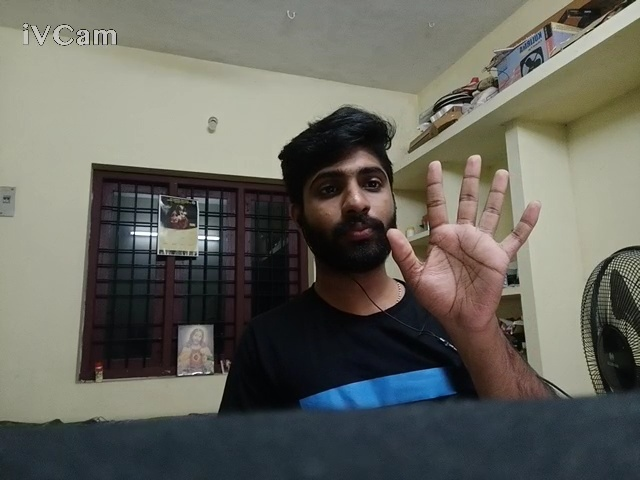Hello: (380, 148, 551, 341)
